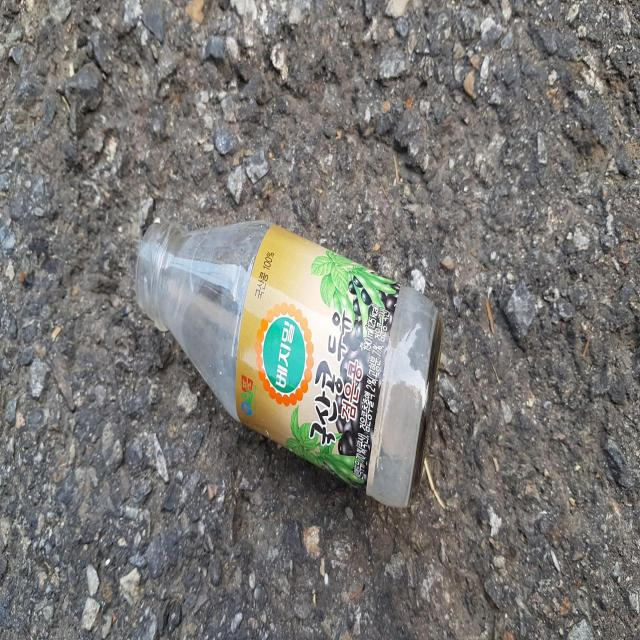glass: (136, 220, 443, 507)
